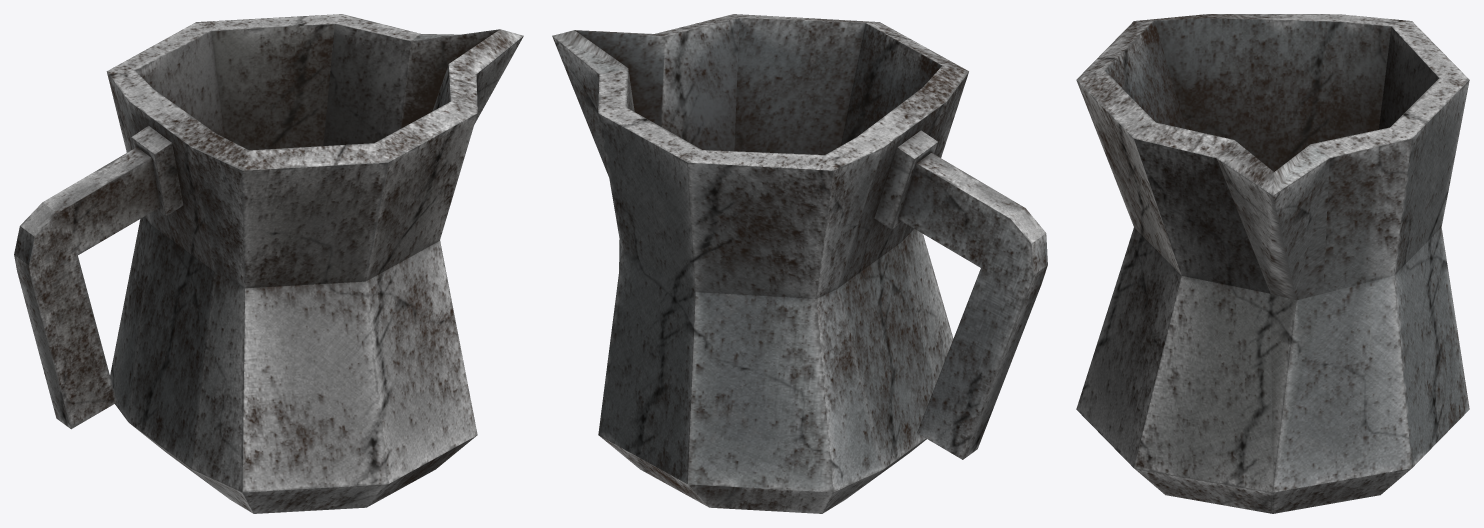
Rendered from Jarra_Leche.glb.
3 renders of one model, left to right at view 1: azimuth 30°, elevation 25°; view 2: azimuth 150°, elevation 25°; view 3: azimuth 270°, elevation 25°, orthographic. The views are drawn at different scales.
Visible parts, largest first — view 1: Circle.002; view 2: Circle.002; view 3: Circle.002.
Part boxes in pixels (bbox=[...]): Circle.002: bbox=[14, 14, 523, 513]; Circle.002: bbox=[552, 14, 1047, 513]; Circle.002: bbox=[1076, 14, 1469, 513].
Size of the model in its own units: 0.1959 by 0.1408 by 0.1315.
Materials: 1 (1 with a texture image).
